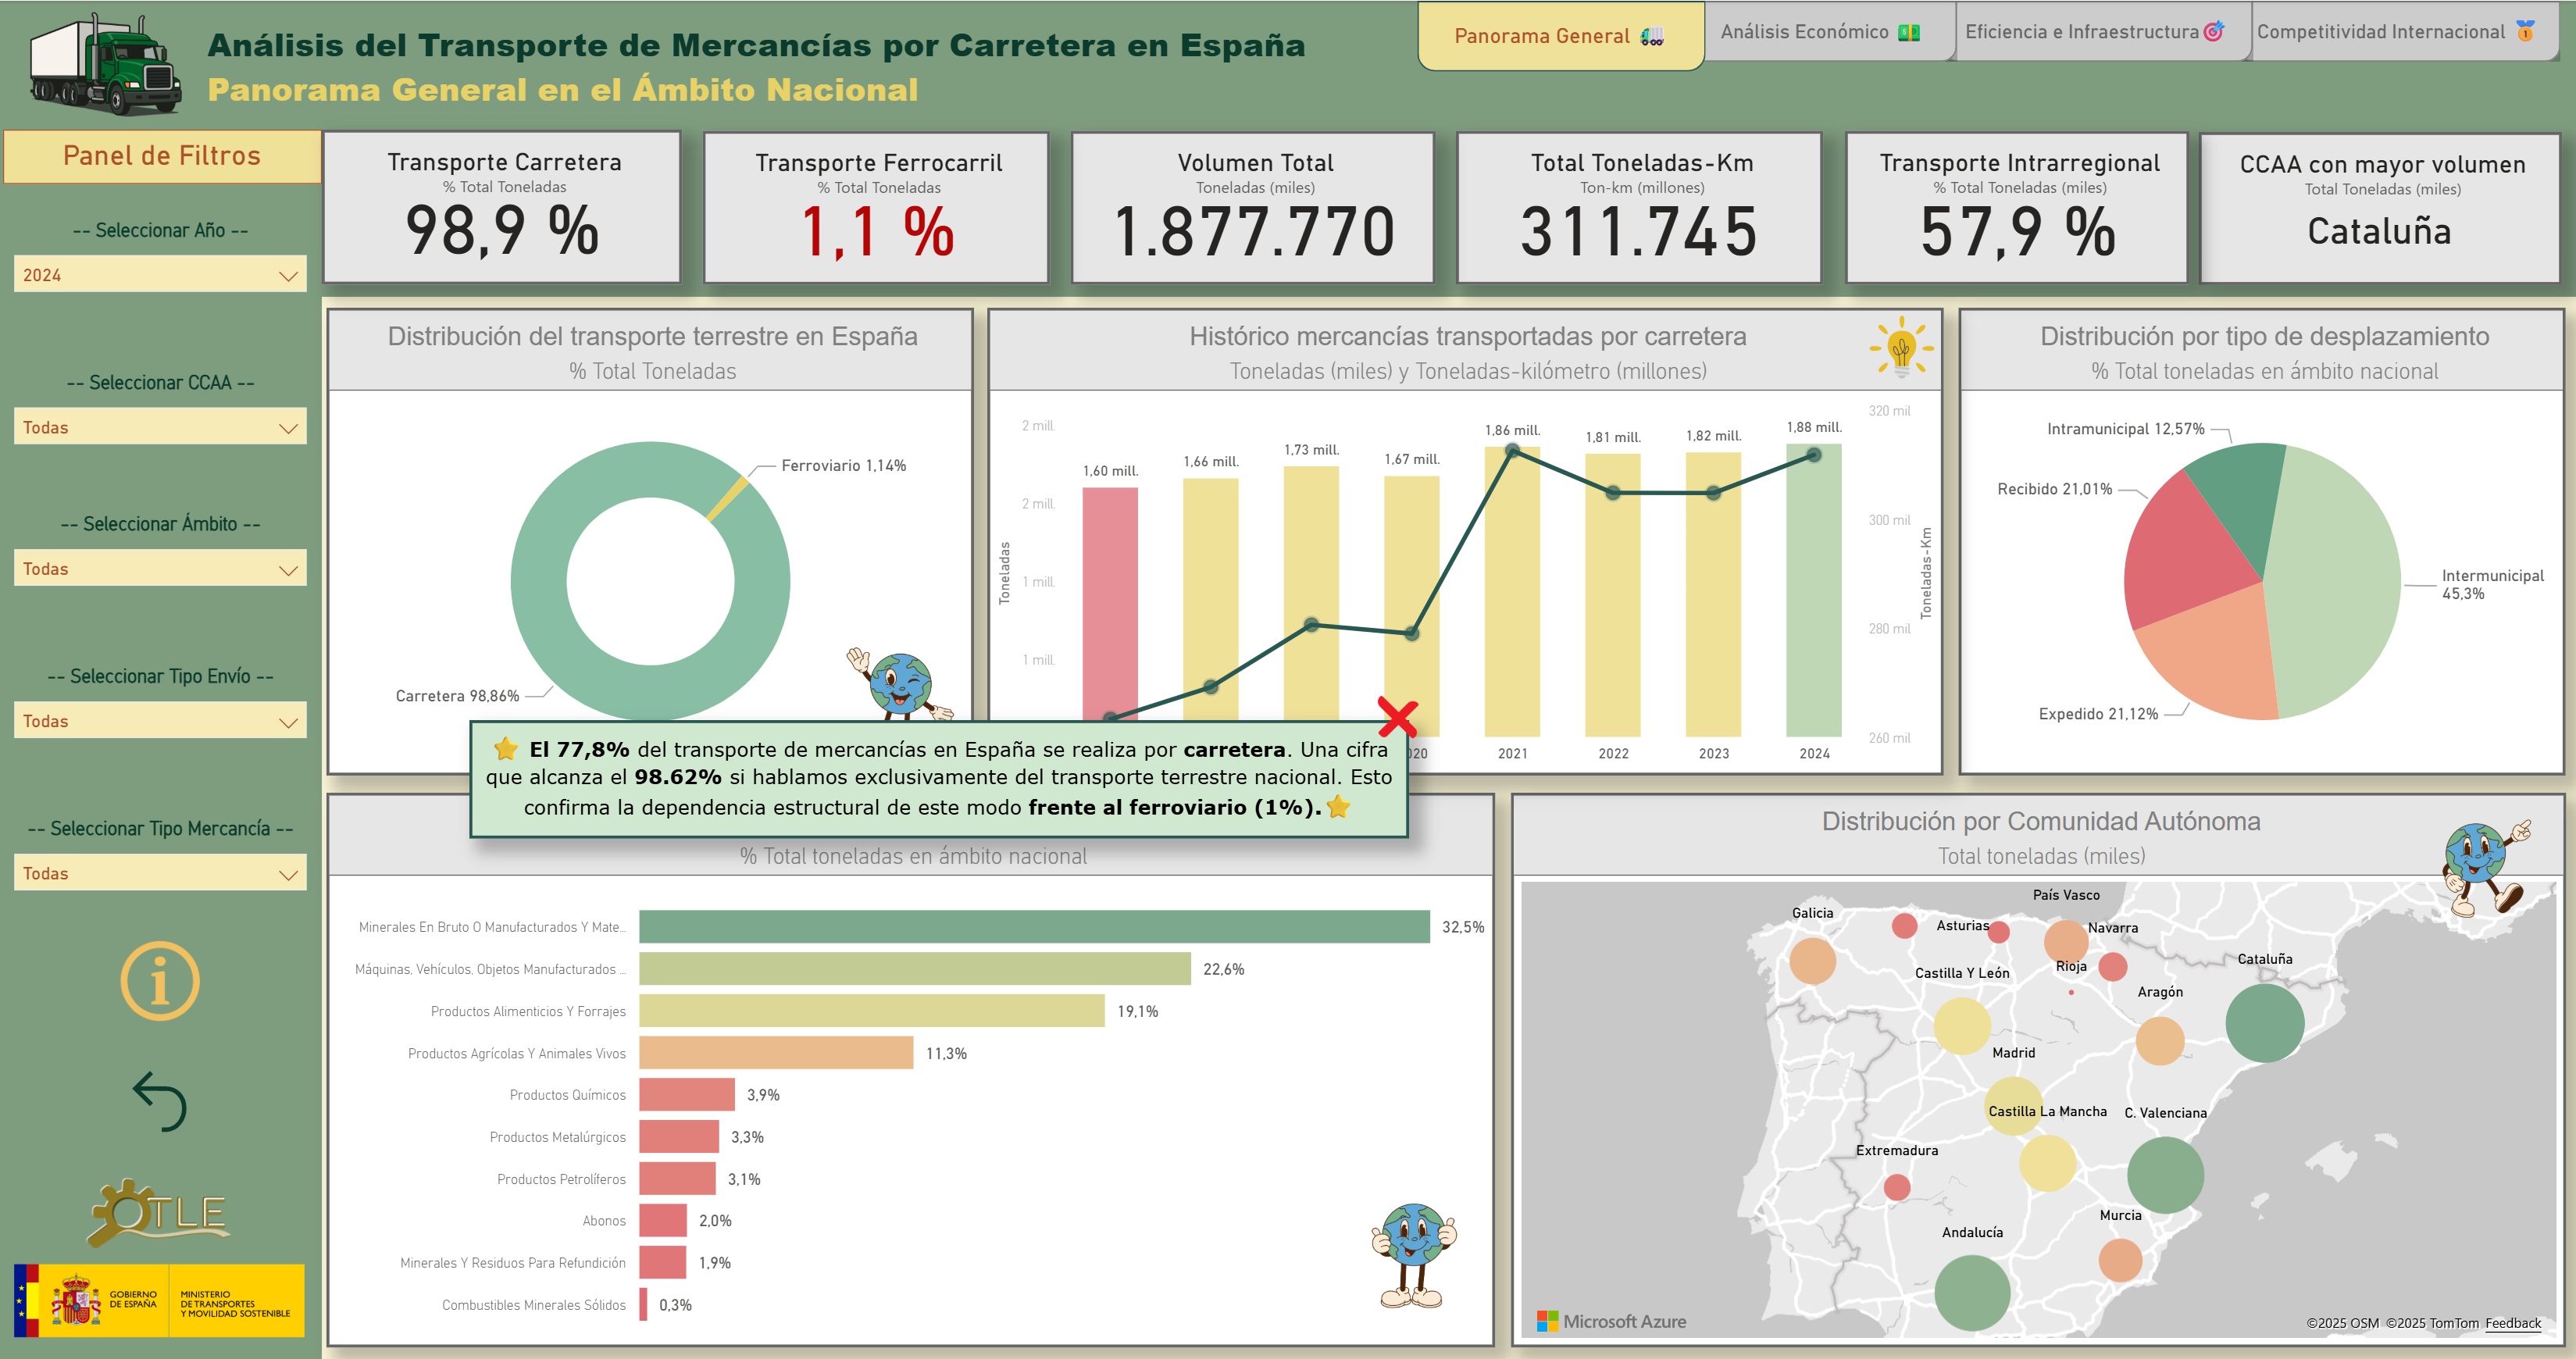

The page's visual inventory and layout, read from the dashboard file:
{"tool":"powerbi","page":{"name":"Panorama General","canvas":[1747,920],"ordinal":1},"visuals":[{"type":"group","id":"g1","title":"Panel diseño","box":[0,0,1799.4,919.7],"z":0},{"type":"shape","box":[0,0,1799.4,200.2],"z":0,"group":"g1"},{"type":"lineStackedColumnComboChart","title":"Histórico mercancías transportadas por carretera","fields":{"Category":["Año Dim.Año"],"Y2":["Medidas.Total Ton-km (miles millones)"],"Y":["Medidas.Total Toneladas (miles de millones)"]},"box":[667.9,207.3,645.9,315.9],"z":0,"group":"g2"},{"type":"shape","box":[0,81.2,218.5,838.5],"z":1000,"group":"g1"},{"type":"cardVisual","title":"Total Toneladas-Km","fields":{"Data":["Medidas.Total Tone-km (millones)"]},"box":[984.6,87.9,248.2,104.2],"z":1000},{"type":"image","box":[1257.8,204.6,55.1,57.6],"z":1000,"group":"g2"},{"type":"textbox","box":[135.8,8.5,918.5,77.3],"z":2000,"group":"g1"},{"type":"cardVisual","title":"Volumen Total","fields":{"Data":["Medidas.Total Toneladas(miles)"]},"box":[724.1,88.1,246.4,104],"z":2000},{"type":"slicer","title":"-- Seleccionar Año --","fields":{"Values":["Año Dim.Año"]},"box":[0.9,146.8,217.6,63.9],"z":3000},{"type":"slicer","title":"-- Seleccionar CCAA --","fields":{"Values":["CCAA Dim.CCAA"]},"box":[0.8,250,217.6,56.3],"z":4000},{"type":"slicer","title":"-- Seleccionar Ámbito --","fields":{"Values":["Tipo Envio Dim.Ámbito"]},"box":[0.9,345.5,217.6,63.9],"z":5000},{"type":"slicer","title":"-- Seleccionar Tipo Envío --","fields":{"Values":["Tipo Envio Dim.Tipo Envío"]},"box":[0.9,448.7,217.6,63.9],"z":6000},{"type":"textbox","box":[3.2,87,215.2,36.4],"z":7000},{"type":"donutChart","title":"Distribución del transporte terrestre en España","fields":{"Y":["Medidas.Total Toneladas Modo (miles de millones)"],"Series":["C0519 Transporte Modo - Ambito.Modo Transporte"]},"box":[221.8,207.2,437.2,315.7],"z":8000},{"type":"pieChart","title":"Distribución por tipo de desplazamiento","fields":{"Category":["Dim Tipo Envio.Tipo Envío"],"Y":["Medidas.Total Toneladas (miles de millones)"]},"box":[1323.9,207.5,410.2,315.9],"z":9000},{"type":"clusteredBarChart","title":"Distribución por Tipo de Mercancía","fields":{"Category":["C0280 Tráfico Total.Tipo Mercancía"],"Y":["Medidas General.Total Toneladas (miles)"]},"box":[221.6,534.7,789.3,374.4],"z":10000},{"type":"cardVisual","title":"Transporte Carretera","fields":{"Data":["Medidas.% Ton Carretera","Medidas.% Ton Carretera"]},"box":[218.1,87.2,243.1,104.9],"z":11000},{"type":"cardVisual","title":"Transporte Ferrocarril","fields":{"Data":["Medidas.% Ton Tren"]},"box":[475.3,87.9,234.6,104.2],"z":12000},{"type":"cardVisual","title":"CCAA con mayor volumen","fields":{"Data":["Min(Dim CCAA.CCAA)"]},"box":[1486.3,88.2,245.3,103.6],"z":13000},{"type":"cardVisual","title":"Transporte Intrarregional","fields":{"Data":["Medidas General.% Ton Intrarregional"]},"box":[1247,87.9,232.8,104.2],"z":14000},{"type":"slicer","title":"-- Seleccionar Tipo Mercancía --","fields":{"Values":["C0280 Tráfico Total.Tipo Mercancía"]},"box":[0.9,551.8,217.6,63],"z":16000},{"type":"azureMap","title":"Distribución por Comunidad Autónoma","fields":{"Size":["Medidas.Total Toneladas (miles de millones)"],"Category":["Dim CCAA.CCAA"]},"box":[1021.2,534.7,712.9,374.4],"z":17000},{"type":"shape","box":[1512.6,0,218.2,41.2],"z":18000},{"type":"image","box":[4,846.7,208.9,62.5],"z":19000},{"type":"image","box":[3.6,789.6,208.6,57.6],"z":20000},{"type":"shape","box":[1313.1,0,209.8,41.2],"z":21000},{"type":"shape","box":[1140.7,0,181.7,41.2],"z":22000},{"type":"actionButton","box":[82.4,715.5,53.4,56.2],"z":23000},{"type":"shape","box":[958.1,0,194.8,47.8],"z":24000},{"type":"image","box":[4,2.4,136.9,80.7],"z":25000},{"type":"image","box":[76.8,629.4,64.6,66.5],"z":26000},{"type":"image","box":[567.7,430.9,83,81.1],"z":27000},{"type":"image","box":[921.9,804.7,68.8,83.9],"z":28000},{"type":"image","box":[1645.2,545.5,71,83.6],"z":29000},{"type":"group","id":"g2","title":"Viz 1","box":[667.9,204.6,645.9,318.6],"z":30000}]}

Visuals, with their boxes in screenshot pixels (x1, y1, x2, y2), scaled from the page's 1747x920 canvas onto the 2576x1359 screenshot:
"Panel diseño" group: (0,0,2575,1358)
shape: (0,0,2575,296)
"Histórico mercancías transportadas por carretera" lineStackedColumnComboChart: (985,306,1937,773)
shape: (0,120,322,1358)
"Total Toneladas-Km" cardVisual: (1452,130,1818,284)
image: (1854,302,1936,387)
textbox: (200,12,1554,127)
"Volumen Total" cardVisual: (1068,130,1431,284)
"-- Seleccionar Año --" slicer: (2,217,322,311)
"-- Seleccionar CCAA --" slicer: (2,369,322,452)
"-- Seleccionar Ámbito --" slicer: (2,510,322,605)
"-- Seleccionar Tipo Envío --" slicer: (2,663,322,757)
textbox: (5,129,322,182)
"Distribución del transporte terrestre en España" donutChart: (327,306,972,772)
"Distribución por tipo de desplazamiento" pieChart: (1952,306,2557,773)
"Distribución por Tipo de Mercancía" clusteredBarChart: (326,790,1490,1343)
"Transporte Carretera" cardVisual: (322,129,680,284)
"Transporte Ferrocarril" cardVisual: (701,130,1047,284)
"CCAA con mayor volumen" cardVisual: (2192,130,2553,284)
"Transporte Intrarregional" cardVisual: (1839,130,2182,284)
"-- Seleccionar Tipo Mercancía --" slicer: (2,815,322,908)
"Distribución por Comunidad Autónoma" azureMap: (1506,790,2557,1343)
shape: (2230,0,2552,61)
image: (6,1250,314,1343)
image: (5,1166,313,1251)
shape: (1936,0,2246,61)
shape: (1682,0,1950,61)
actionButton: (122,1057,200,1140)
shape: (1413,0,1700,70)
image: (6,4,208,123)
image: (113,929,209,1028)
image: (837,637,959,756)
image: (1359,1189,1461,1313)
image: (2426,806,2531,929)
"Viz 1" group: (985,302,1937,773)
